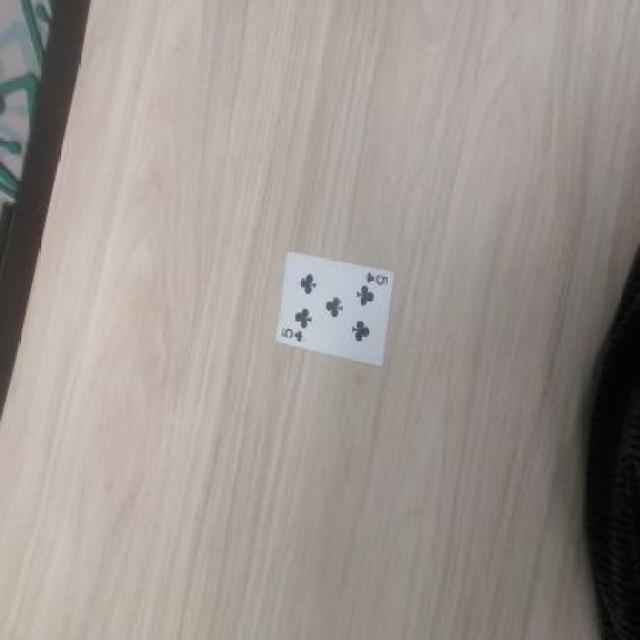5C: (362, 268, 396, 288), (281, 319, 304, 346)
